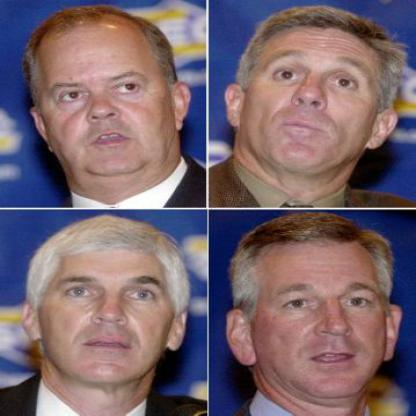face: (249, 217, 389, 403), (35, 8, 178, 179), (241, 11, 384, 176), (38, 223, 177, 387)
